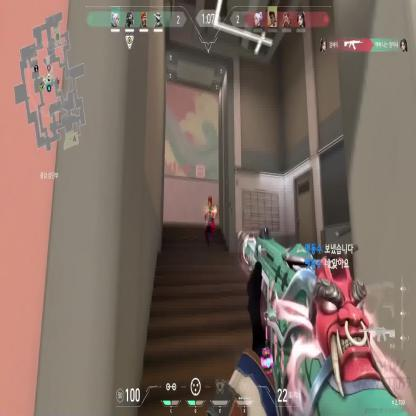enemy: (204, 194, 218, 248)
enemy_head: (207, 195, 213, 210)
